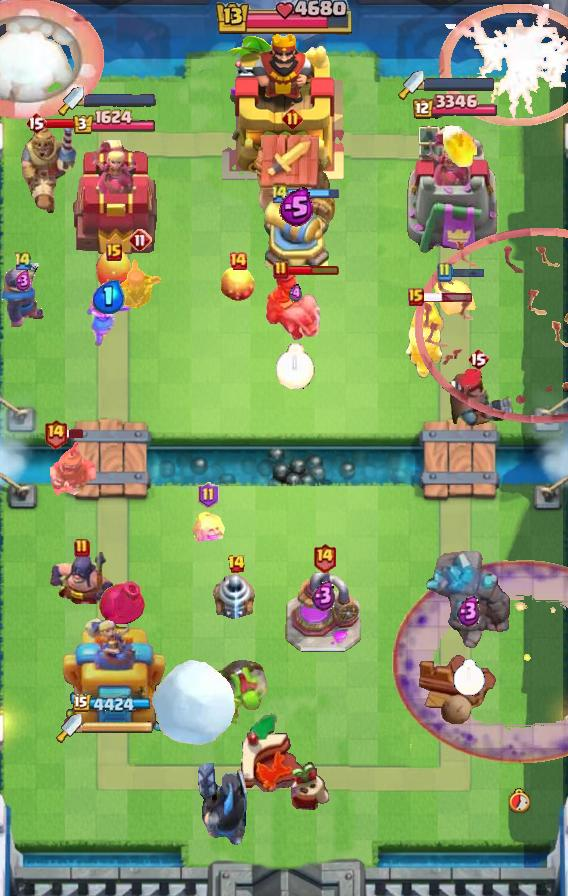baby-dragon: (96, 576, 148, 630)
bar: (406, 122, 500, 256), (61, 615, 166, 731), (70, 138, 158, 256)
bar-level: (212, 657, 270, 729)
barbarian-evolution: (438, 4, 568, 126)
bat-evolution: (190, 510, 226, 548)
cannoneer-tower: (424, 550, 514, 652)
clock: (213, 0, 355, 38)
earthquake: (48, 434, 98, 502)
electro-spirit: (279, 187, 314, 227), (93, 280, 125, 314), (457, 595, 481, 627), (312, 581, 336, 612), (15, 270, 31, 292), (290, 285, 303, 303)
elite-barbarian: (265, 266, 325, 342), (403, 297, 445, 379)
elixir: (277, 343, 316, 389), (453, 659, 485, 696), (509, 787, 531, 812)
emote: (288, 264, 341, 276), (45, 117, 97, 129), (288, 189, 340, 200), (421, 292, 473, 303), (451, 266, 486, 278), (65, 428, 85, 440)
evolution-symbol: (115, 257, 165, 327)
firecracker: (2, 263, 47, 329)
goblin-drill: (210, 572, 262, 628)
hog: (94, 249, 134, 293), (221, 264, 255, 302)
hog-rider: (85, 294, 133, 348)
inferno-dragon: (194, 759, 254, 853)
king-tower: (222, 31, 346, 181)
king-tower-bar: (424, 77, 496, 91), (84, 93, 156, 107), (82, 721, 154, 735)
mirror: (432, 277, 478, 319)
monk: (49, 550, 115, 608)
pekka: (285, 572, 363, 654)
phoenix-small: (440, 368, 516, 428)
ram-rider: (19, 120, 79, 216)
rocket: (392, 560, 568, 764)
royal-recruit: (260, 193, 332, 275)
selected: (411, 95, 498, 122), (71, 109, 156, 136), (73, 693, 154, 714)
skeleton-barrel: (416, 226, 568, 424)
sparky: (249, 134, 335, 232)
text: (312, 543, 337, 574), (44, 419, 69, 449), (128, 228, 152, 252), (197, 482, 218, 508), (25, 111, 47, 135), (467, 347, 489, 371), (282, 107, 303, 128), (270, 183, 290, 205), (13, 250, 33, 271), (228, 251, 248, 271), (226, 554, 246, 574), (273, 260, 289, 280), (436, 262, 452, 282), (74, 538, 90, 558), (106, 243, 122, 261), (408, 288, 424, 306)
valkyrie: (441, 126, 479, 172)
wall-breaker: (0, 0, 104, 120), (150, 658, 236, 745)
